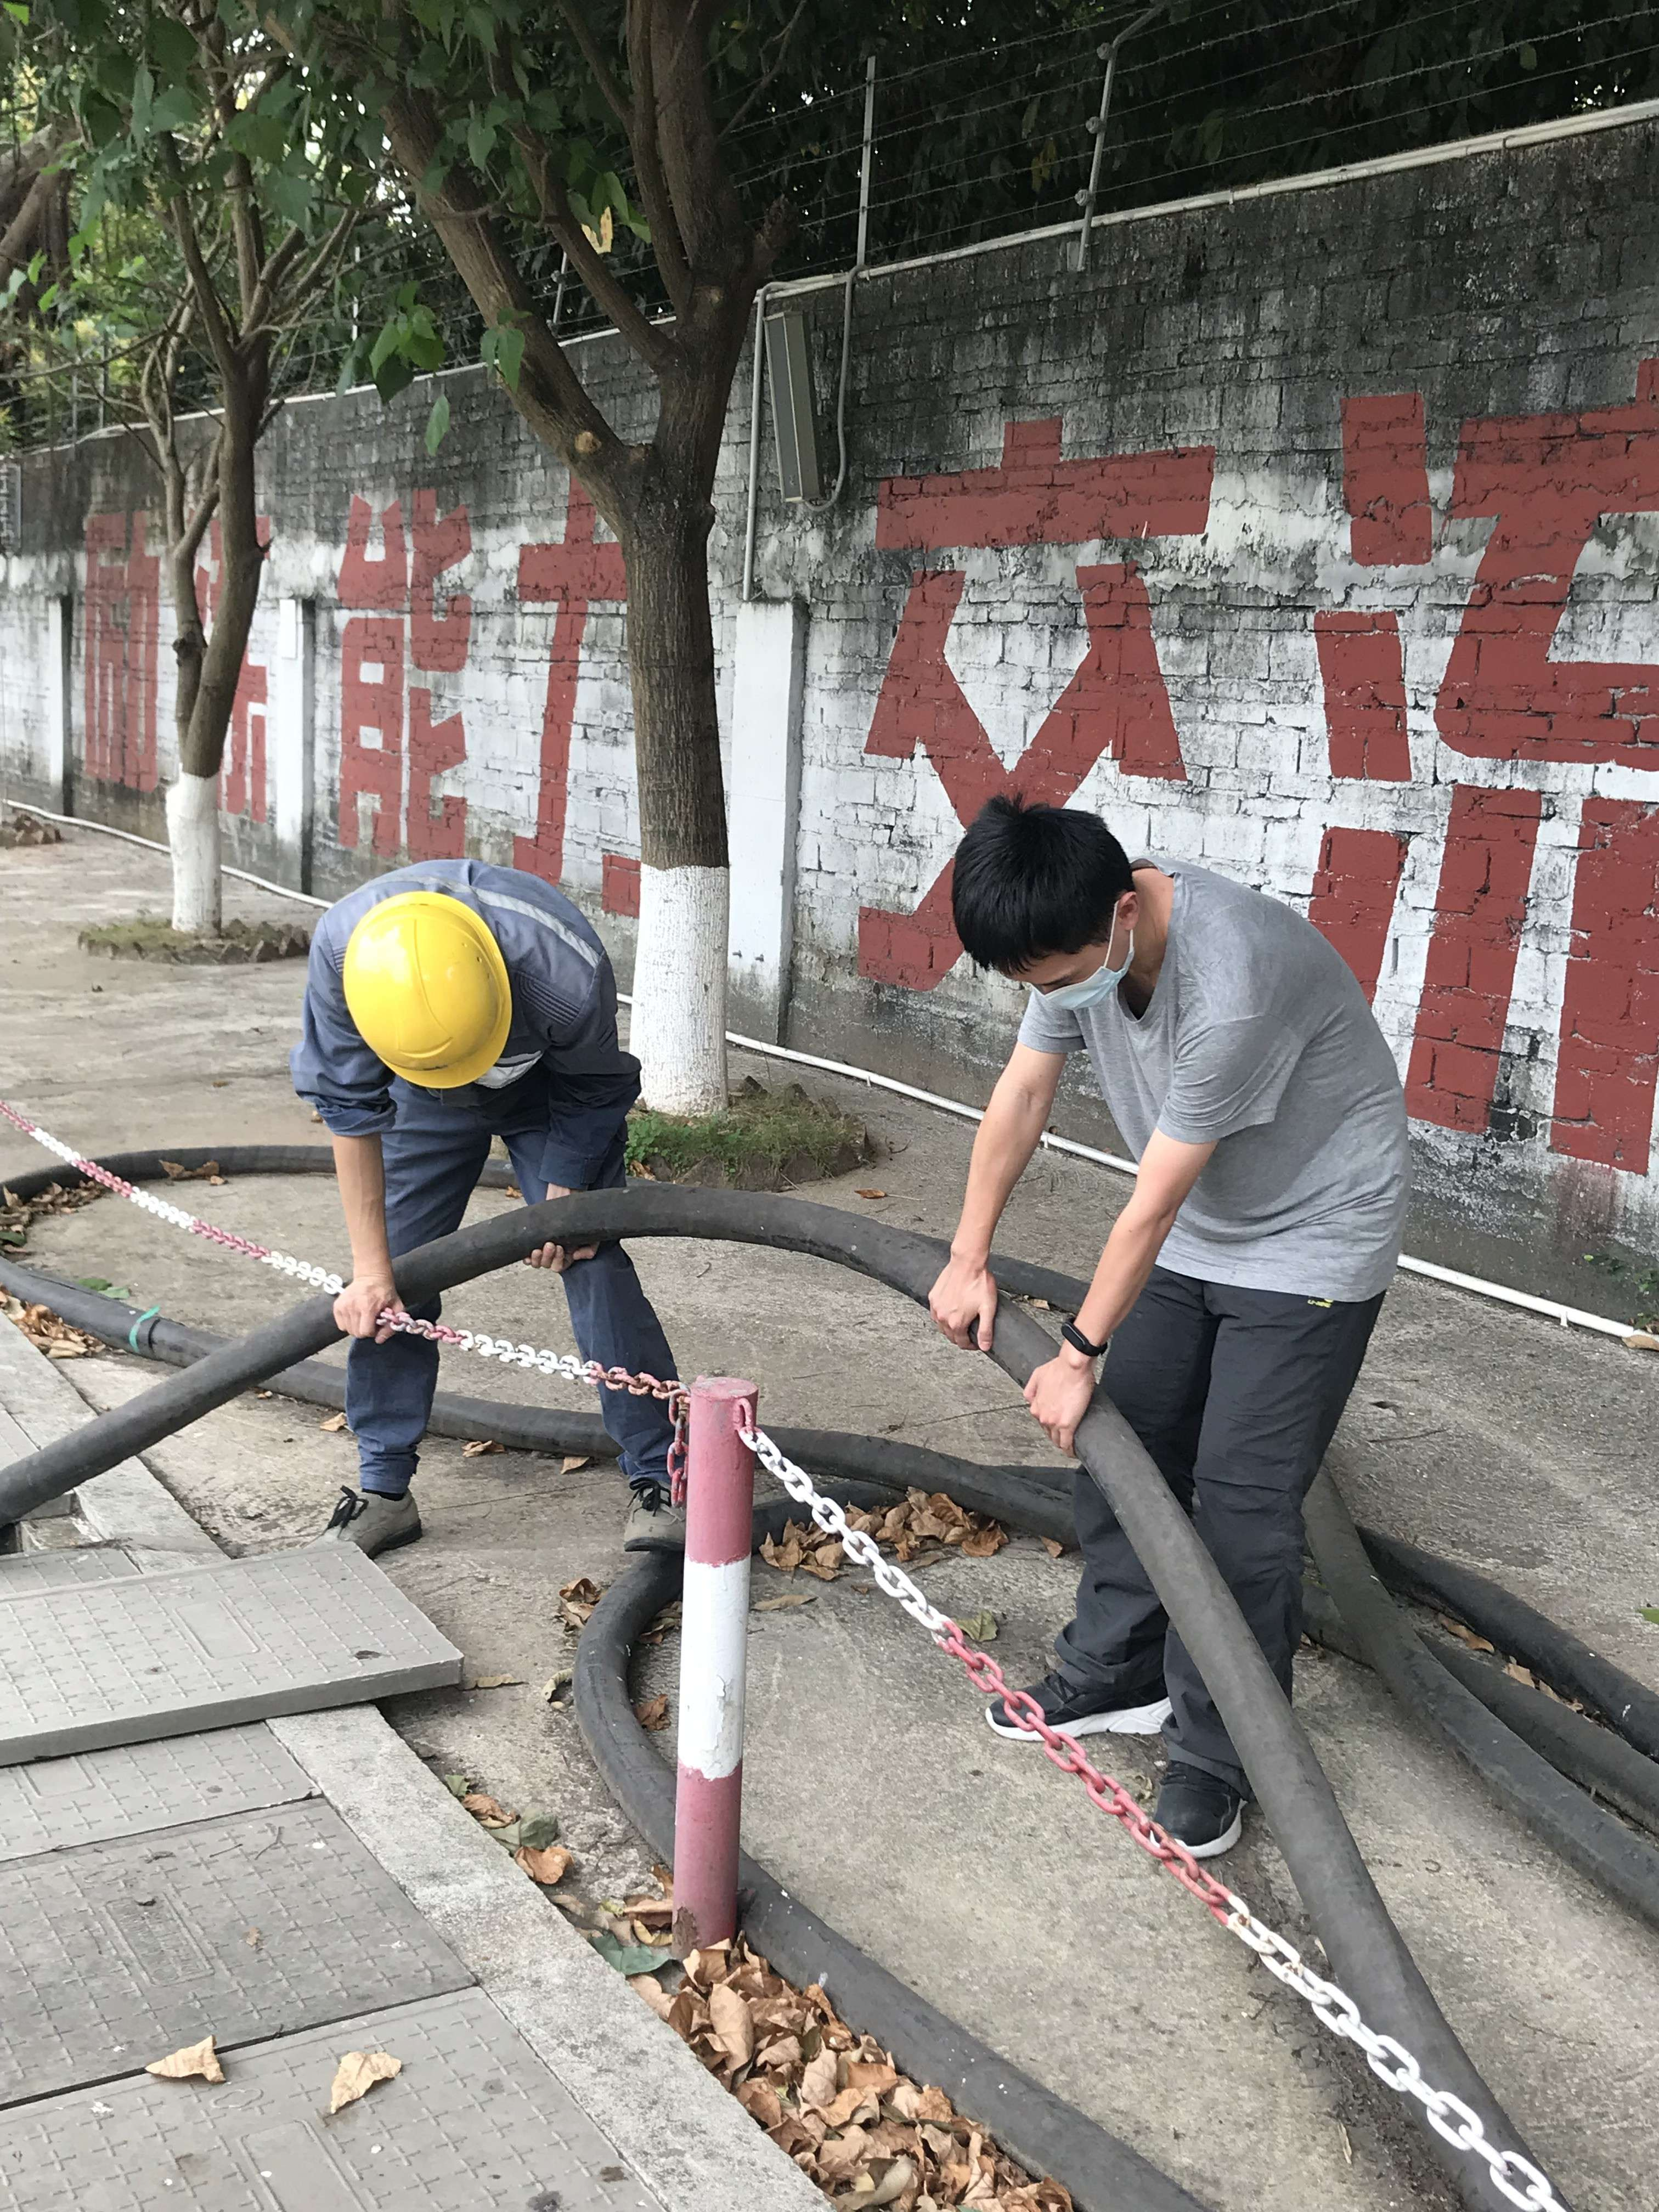downcloth: (1046, 1289, 1396, 1669)
downsuit: (345, 1144, 680, 1494)
upcloth: (1089, 867, 1392, 1270)
upsuit: (298, 864, 638, 1113)
wrongtop: (308, 1090, 410, 1325)
